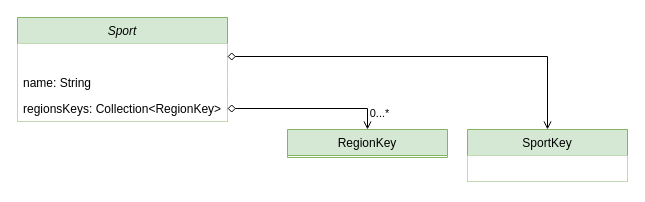
This 645x202 diagram has some shape labels left out. The shapes that lost their labels are listed below. From the top down, each one's centre as x and y in pixels, then its label:
the point at 122,56: key: SportKey
the point at 547,168: sportId: String
